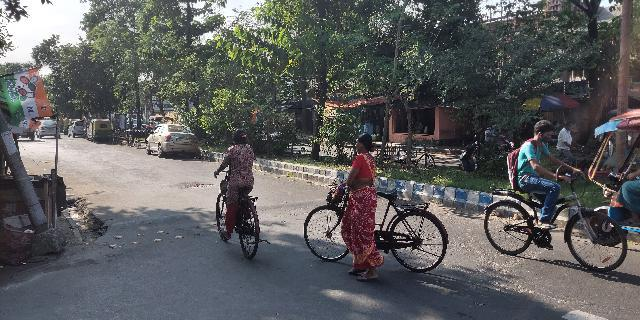Autorickshaw: (89, 117, 111, 145)
Car: (146, 120, 198, 162)
Cycle: (479, 117, 625, 270), (303, 132, 449, 283), (207, 127, 269, 260)
Rickshaw: (587, 107, 640, 243)
